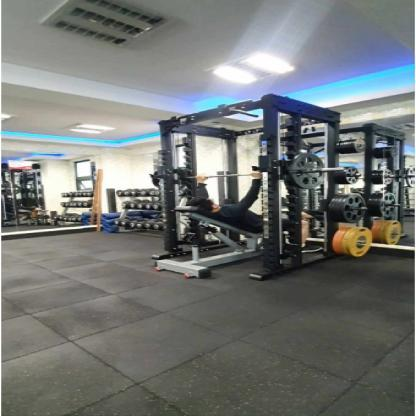smith machine: (150, 93, 341, 282)
